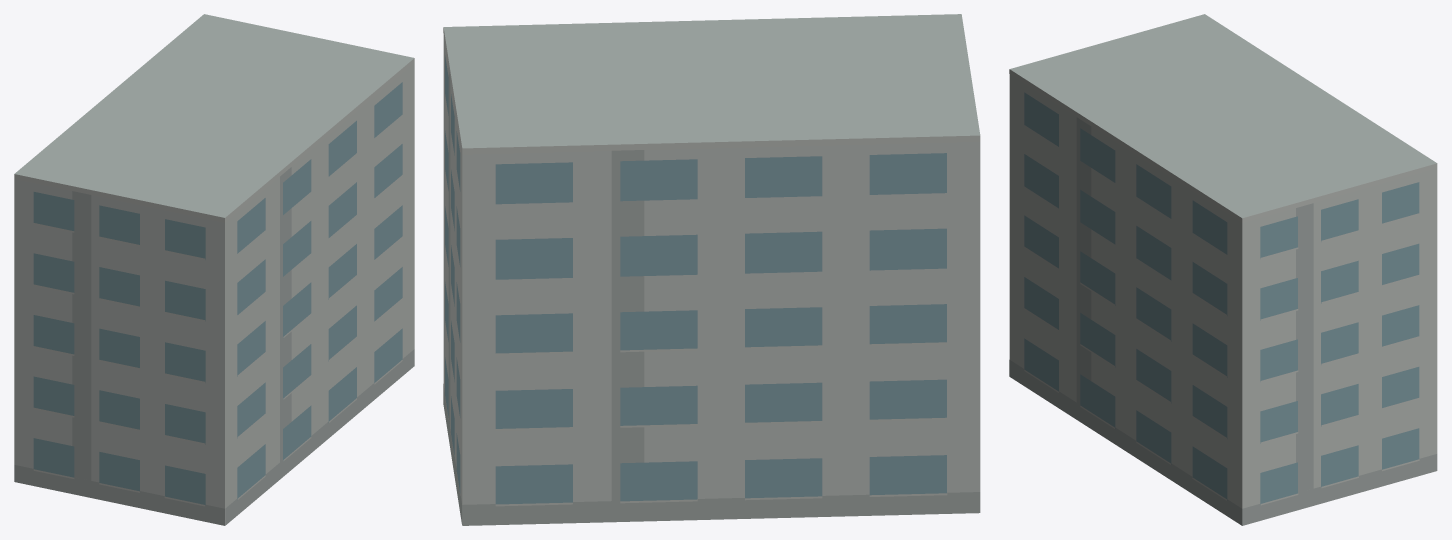
Rendered from survey-upis-33018817.glb.
3 renders of one model, left to right at view 1: azimuth 30°, elevation 25°; view 2: azimuth 150°, elevation 25°; view 3: azimuth 270°, elevation 25°, orthographic. The views are drawn at different scales.
Parts seen in each view (by area): view 1: survey-upis-33018817.tmp; view 2: survey-upis-33018817.tmp; view 3: survey-upis-33018817.tmp.
Boxes of the visible parts, x1,y1,x2,y2 form: survey-upis-33018817.tmp: (14, 14, 414, 525); survey-upis-33018817.tmp: (443, 14, 980, 525); survey-upis-33018817.tmp: (1009, 14, 1437, 525).
Size of the model in its own units: 21.73 by 15.25 by 19.23.
